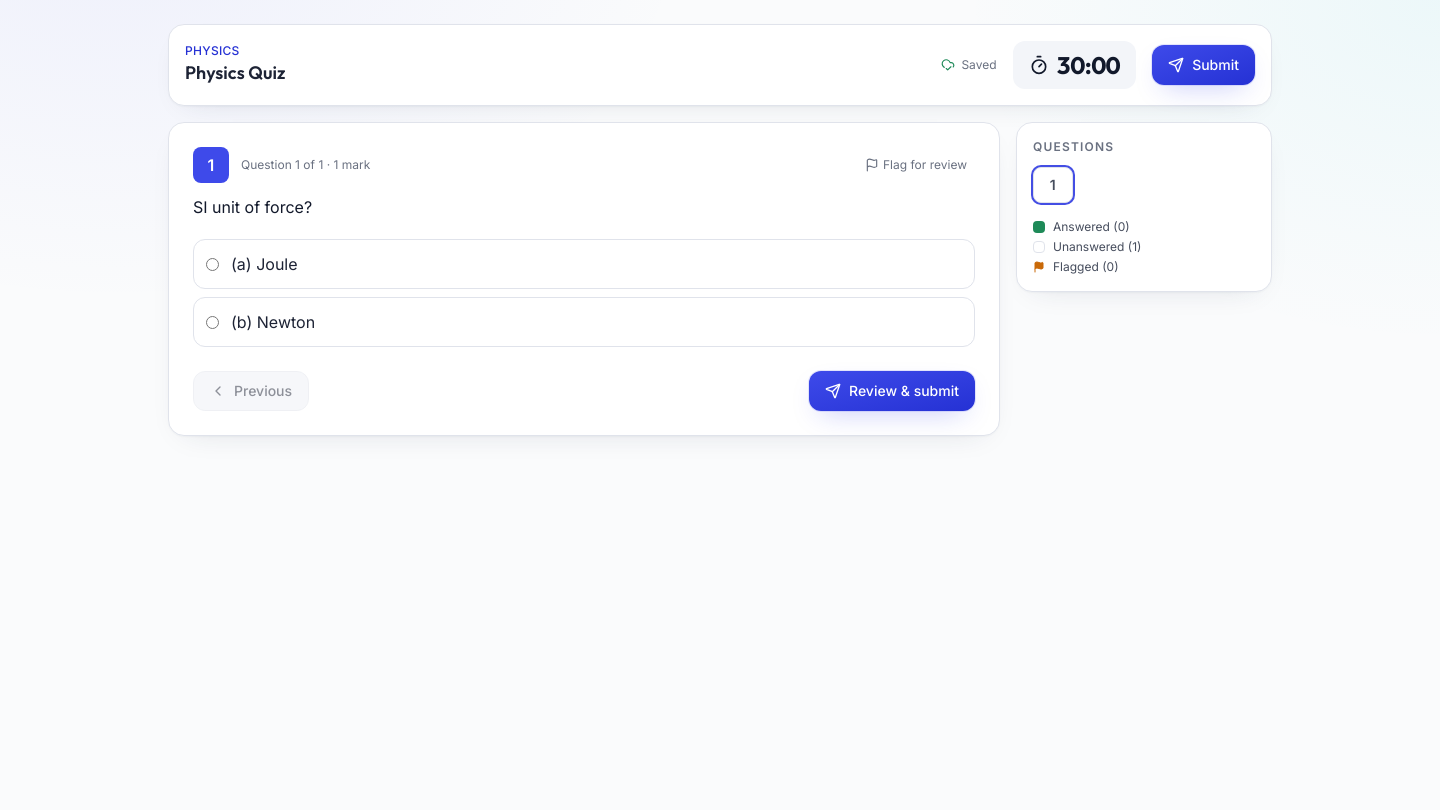
Test: TestRunner — 80% progress toast (FR-TST-PROGRESS) › shows a toast the moment the server reports the completion milestone was just reached
Expected: the text "SI unit of force?" is shown, [193,197,312,217]
Click the radio button labelled "(b) Newton".
click(212, 322)  # box [206,316,219,328]
Wait 4000 ms
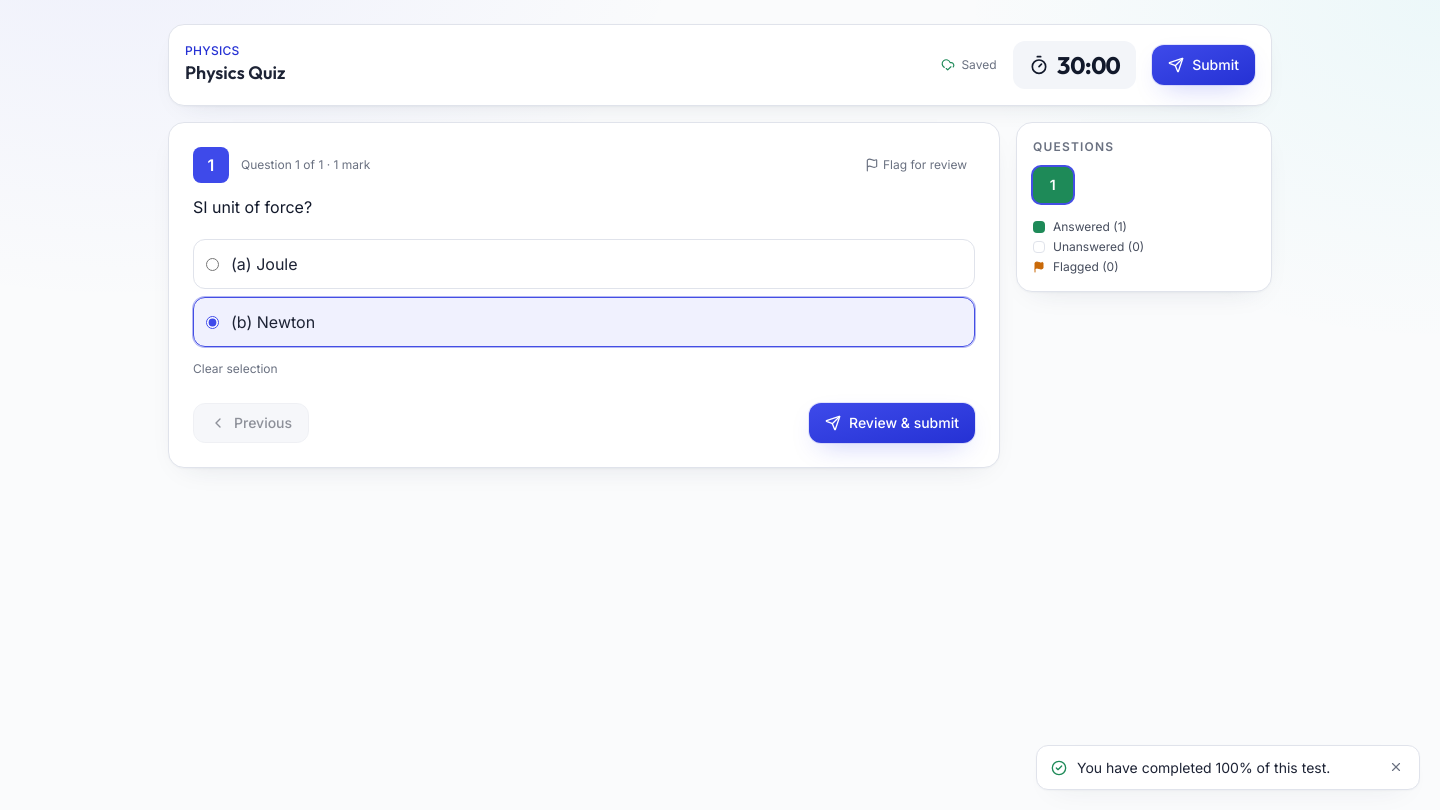
Result: the text "You have completed 100% of this test." is shown at [1077,759,1330,776]
